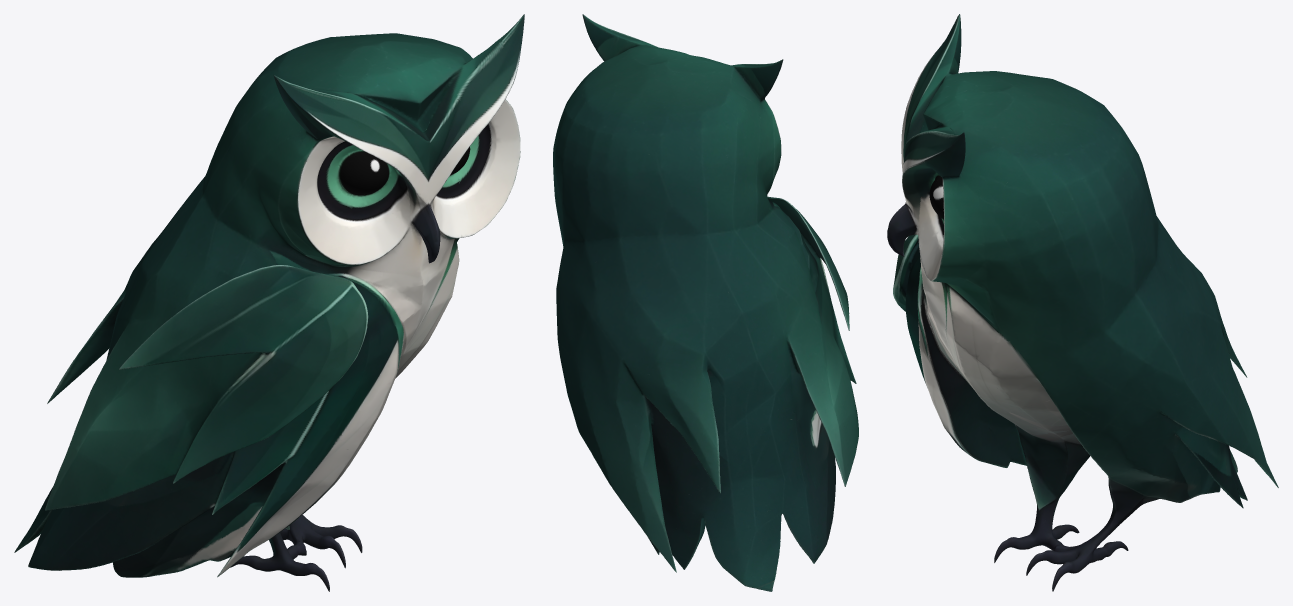
File: left-facing-jarvis.glb
3 renders of one model, left to right at view 1: azimuth 30°, elevation 25°; view 2: azimuth 150°, elevation 25°; view 3: azimuth 270°, elevation 25°, orthographic. The views are drawn at different scales.
Size of the model in its own units: 1.47 by 1.9 by 1.31.
Materials: 1 (1 with a texture image).
